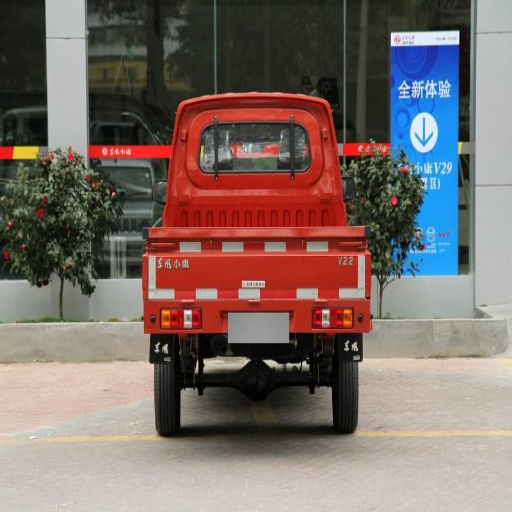trunk: (171, 118, 356, 317)
